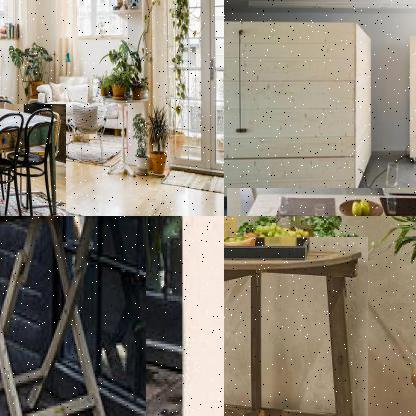table: (0, 216, 147, 415), (224, 237, 368, 415), (0, 104, 67, 215)
